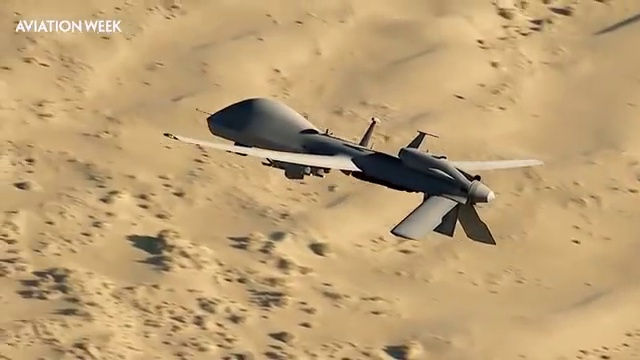military drone: (162, 97, 544, 244)
